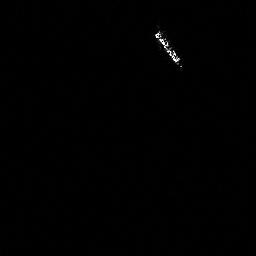ship: (149, 25, 187, 70)
